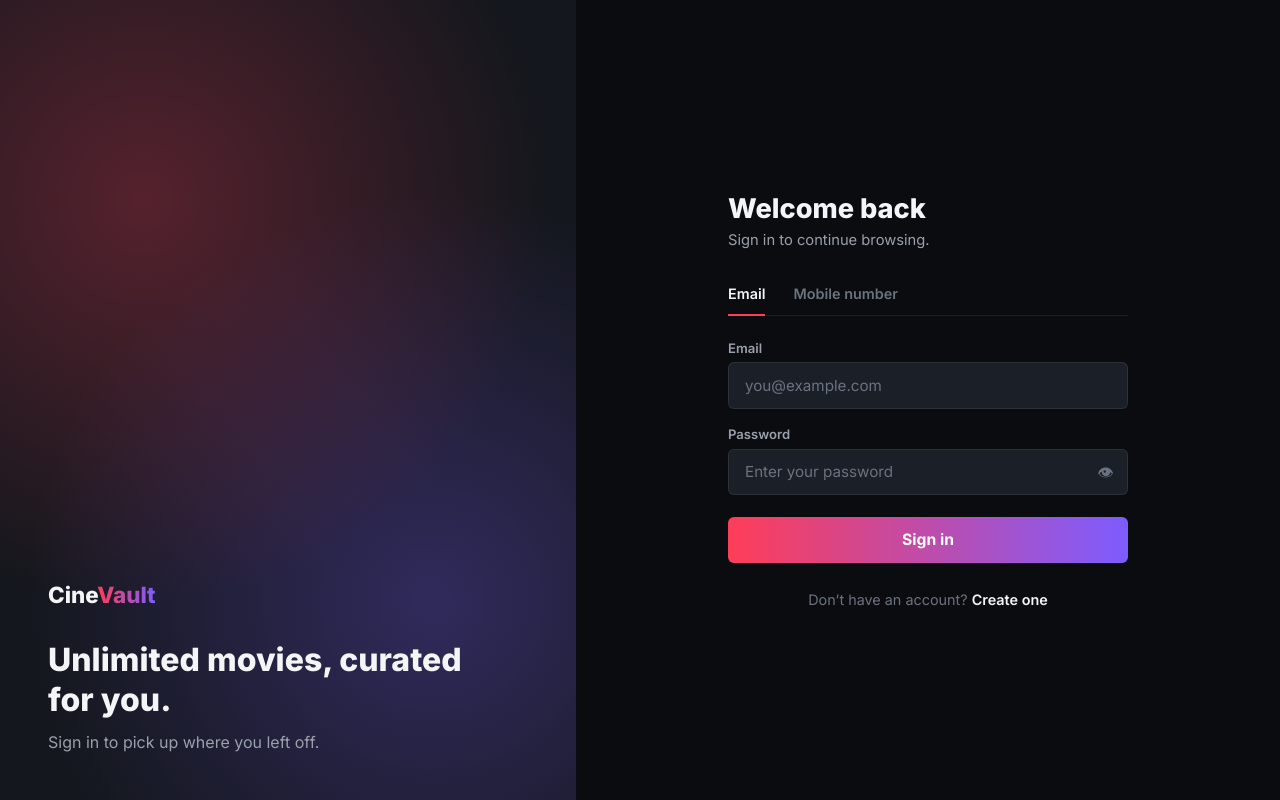
Test: Login page › shows the server error message when login is rejected
The image size is (1280, 800).
Type "jane@example.com" into the field labelled "Email" at (928, 385), box [728,362,1128,409]
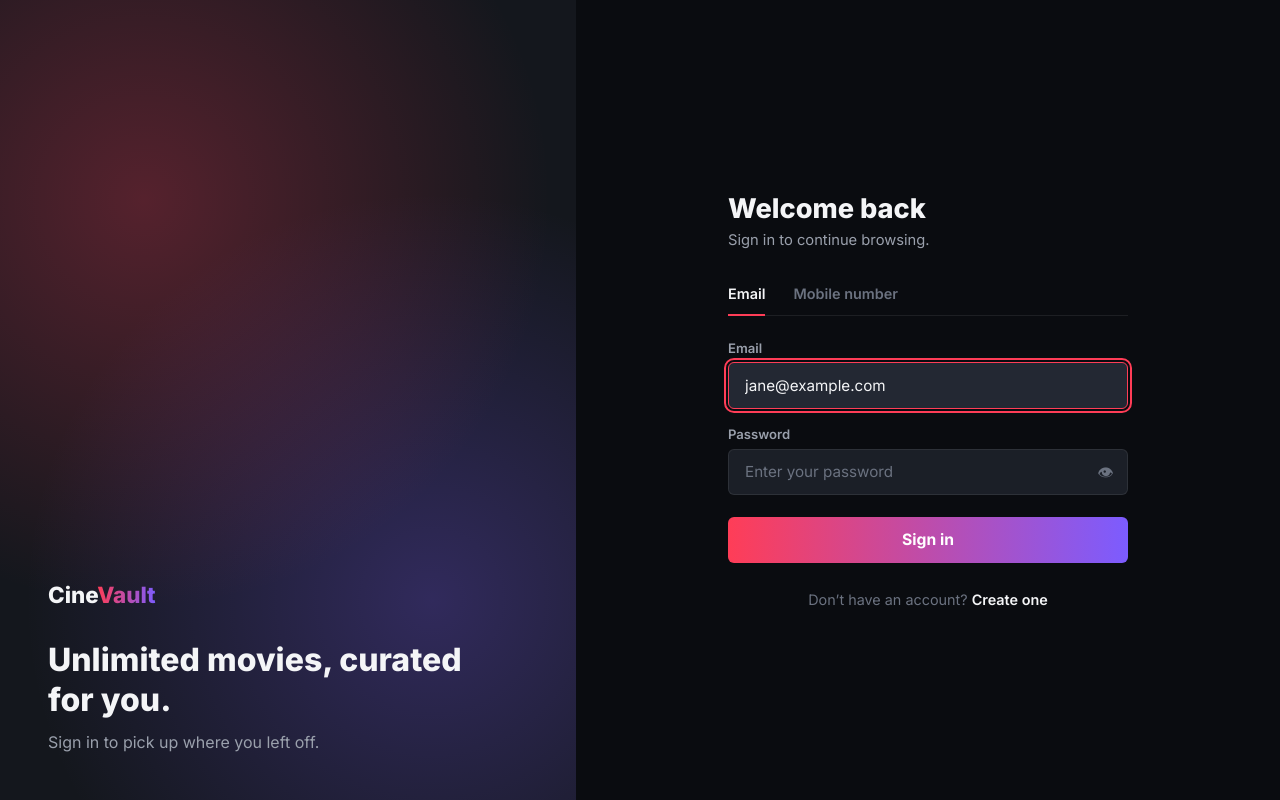
Type "wrongpass" into the password field with placeholder "Enter your password" at (928, 472), box [728,449,1128,495]
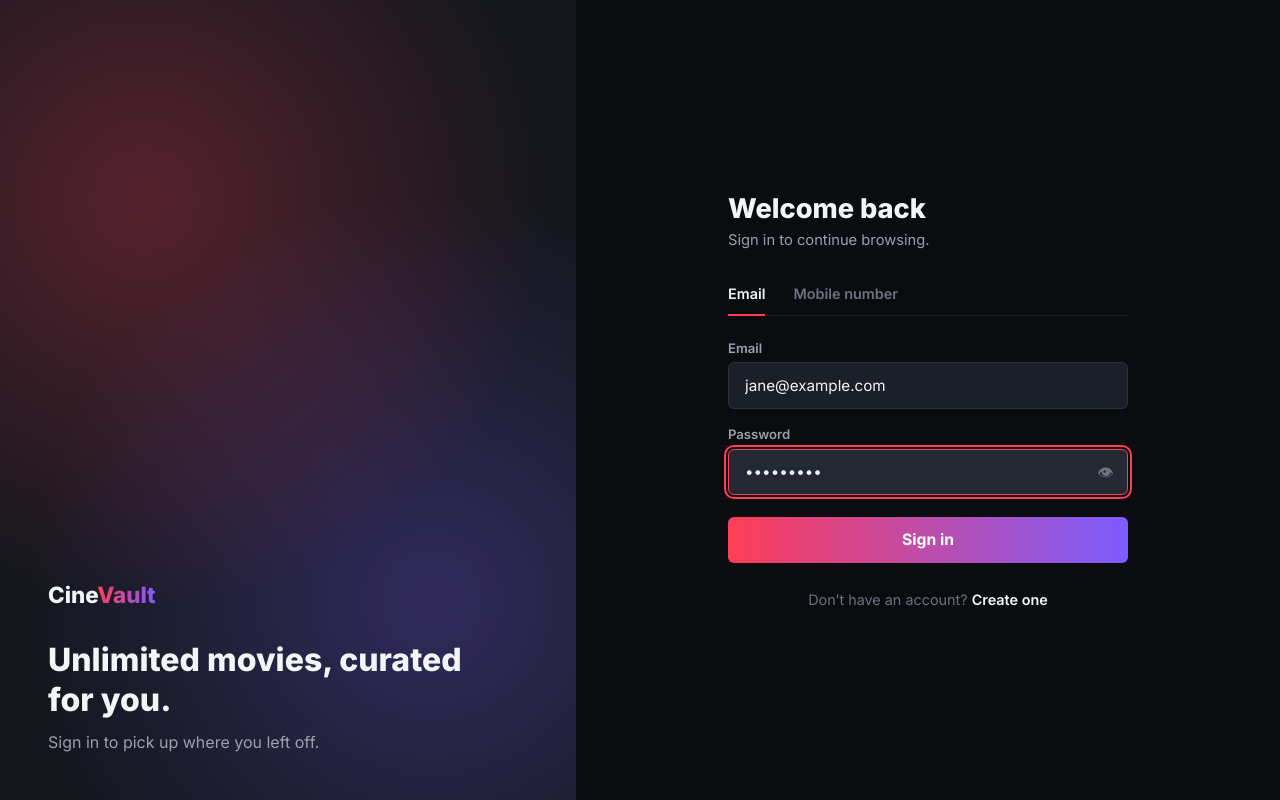
Click the button "Sign in" at (928, 540), box [728,517,1128,563]
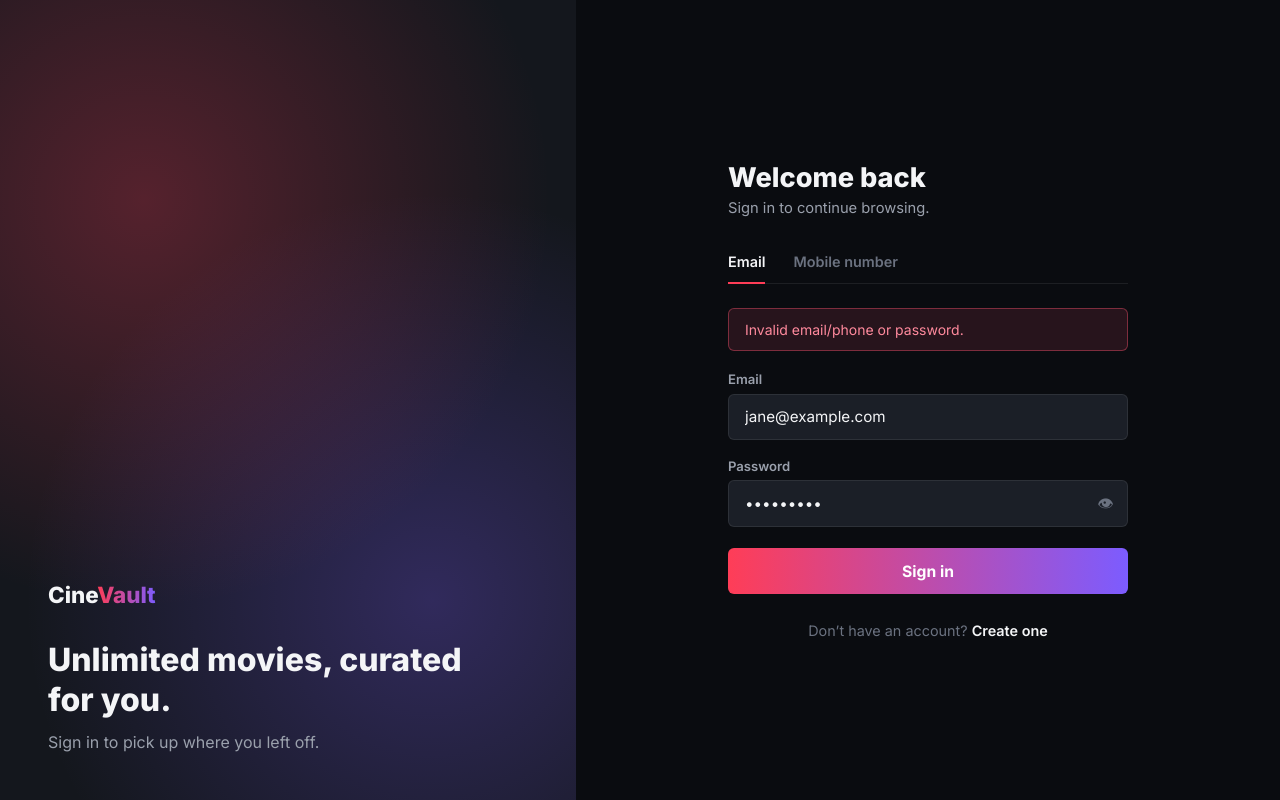
expect the message shows "Invalid email/phone or password": met, box [745,321,964,338]
